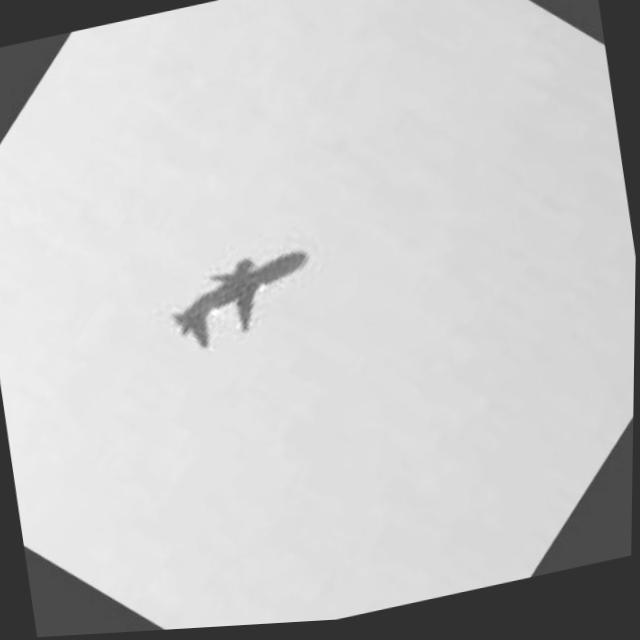aeroplane: (141, 192, 339, 397)
